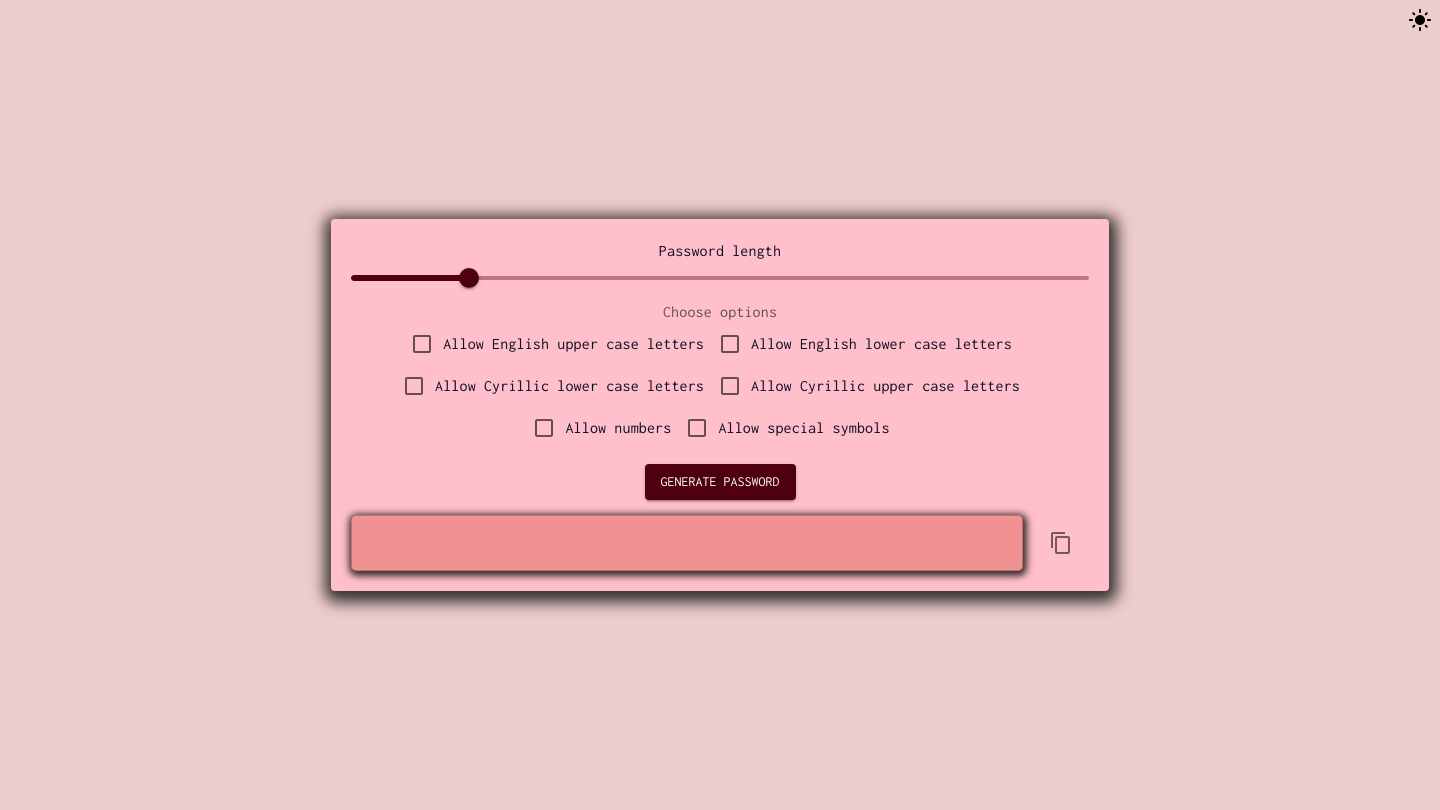
Test: App › Switch theme
The width and height of the screenshot is (1440, 810).
Click the button with test id "switch-theme-button". click: (1420, 20)
box: top-left (1400, 0), bottom-right (1439, 40)
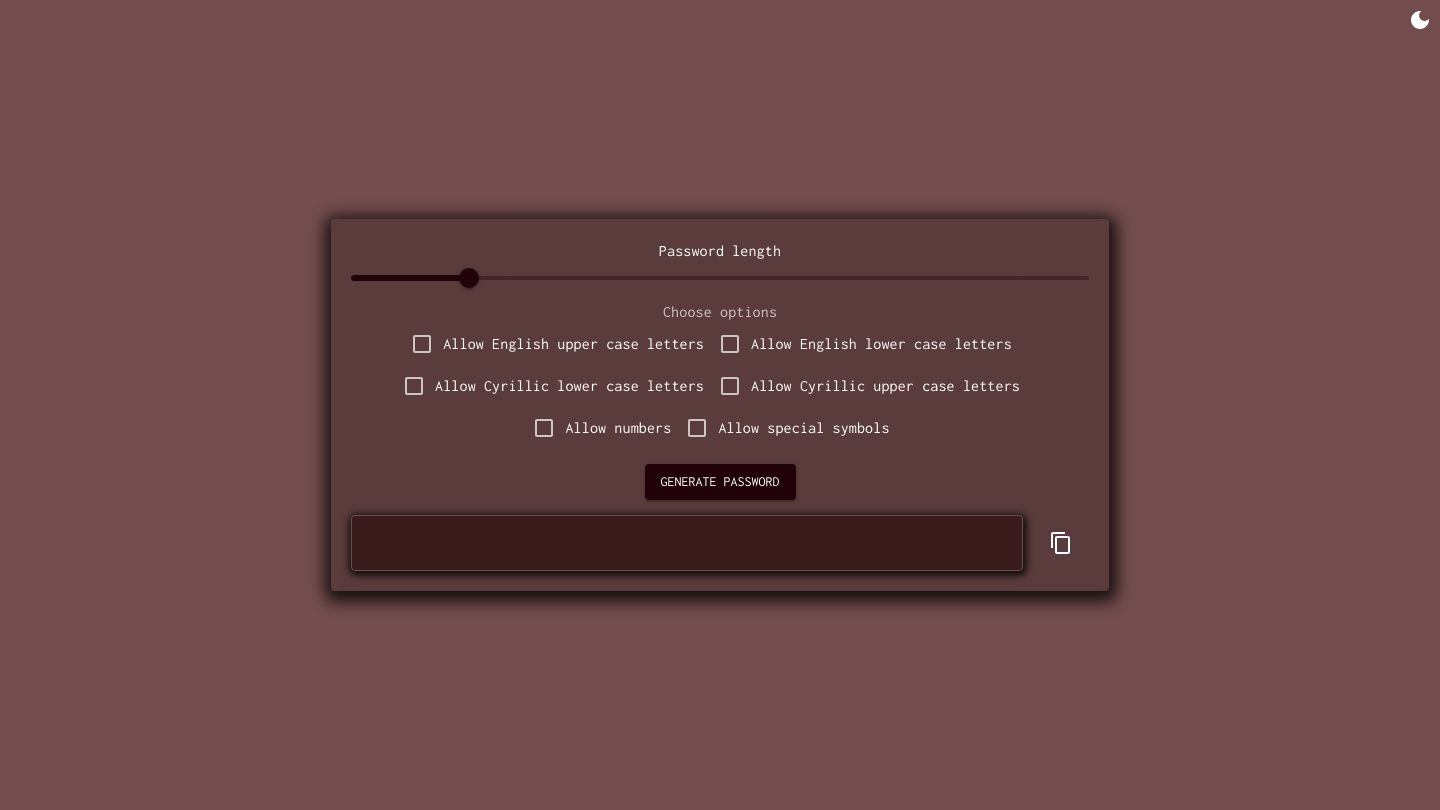
Check: the icon with test id "DarkModeIcon" is shown, box top-left (1408, 8), bottom-right (1432, 32)
